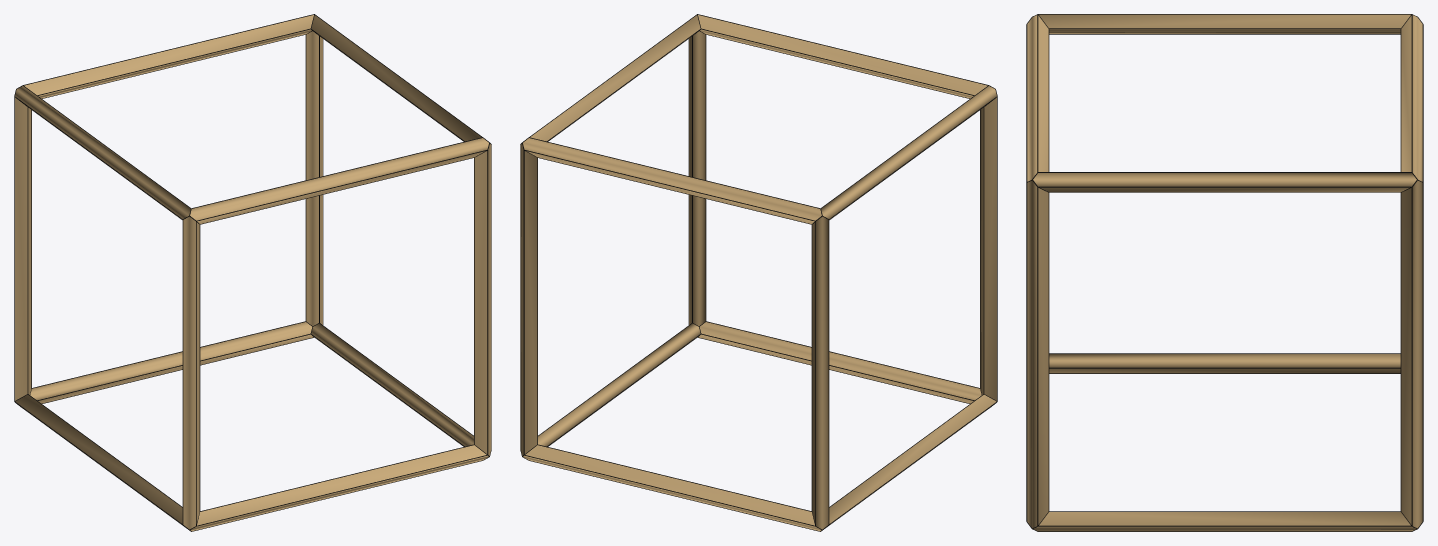
3 renders of one model, left to right at view 1: azimuth 30°, elevation 25°; view 2: azimuth 150°, elevation 25°; view 3: azimuth 270°, elevation 25°, orthographic. The views are drawn at different scales.
Visible parts, largest first — view 1: arete-Z1, arete-X2, arete-Z0, arete-X0, arete-X3, arete-Z2, arete-X1, arete-Z3, arete-Y2, arete-Y0, arete-Y3, arete-Y1 (+12 smaller); view 2: arete-Z3, arete-X3, arete-Z2, arete-X1, arete-X2, arete-Z0, arete-X0, arete-Z1, arete-Y2, arete-Y0, arete-Y3, arete-Y1 (+12 smaller); view 3: arete-Y3, arete-Z1, arete-Z3, arete-Y1, arete-Y2, arete-Y0, arete-X2, arete-X3, arete-wire-Z1, arete-wire-Z3, arete-wire-Y1, arete-wire-Y3 (+4 smaller).
Boxes of the visible parts, box(x1,y1,x2,y2) form: arete-Z1: box(474, 144, 491, 455); arete-X2: box(190, 138, 488, 224); arete-Z0: box(183, 216, 199, 529); arete-X0: box(190, 445, 488, 531); arete-X3: box(24, 15, 313, 98); arete-Z2: box(15, 97, 31, 400); arete-X1: box(30, 322, 313, 403); arete-Z3: box(306, 31, 322, 325); arete-Y2: box(15, 86, 190, 219); arete-Y0: box(15, 394, 182, 524); arete-Y3: box(311, 15, 481, 141); arete-Y1: box(311, 323, 473, 446); arete-Z3: box(520, 144, 537, 455); arete-X3: box(523, 138, 821, 224); arete-Z2: box(812, 216, 828, 529); arete-X1: box(523, 445, 821, 531); arete-X2: box(698, 15, 987, 98); arete-Z0: box(980, 97, 996, 400); arete-X0: box(698, 322, 981, 403); arete-Z1: box(689, 31, 705, 325); arete-Y2: box(821, 86, 996, 219); arete-Y0: box(829, 394, 996, 524); arete-Y3: box(530, 15, 700, 141); arete-Y1: box(538, 323, 700, 446); arete-Y3: box(1033, 173, 1416, 192); arete-Z1: box(1027, 180, 1048, 528); arete-Z3: box(1401, 180, 1422, 528); arete-Y1: box(1033, 512, 1416, 531); arete-Y2: box(1039, 14, 1410, 33); arete-Y0: box(1049, 354, 1400, 373); arete-X2: box(1027, 15, 1048, 181); arete-X3: box(1401, 15, 1422, 181); arete-wire-Z1: box(1026, 179, 1049, 526); arete-wire-Z3: box(1400, 182, 1423, 526); arete-wire-Y1: box(1032, 511, 1417, 531); arete-wire-Y3: box(1038, 172, 1417, 192).
Bounding box in the file's own units: 1.03 × 1.03 × 1.03.
